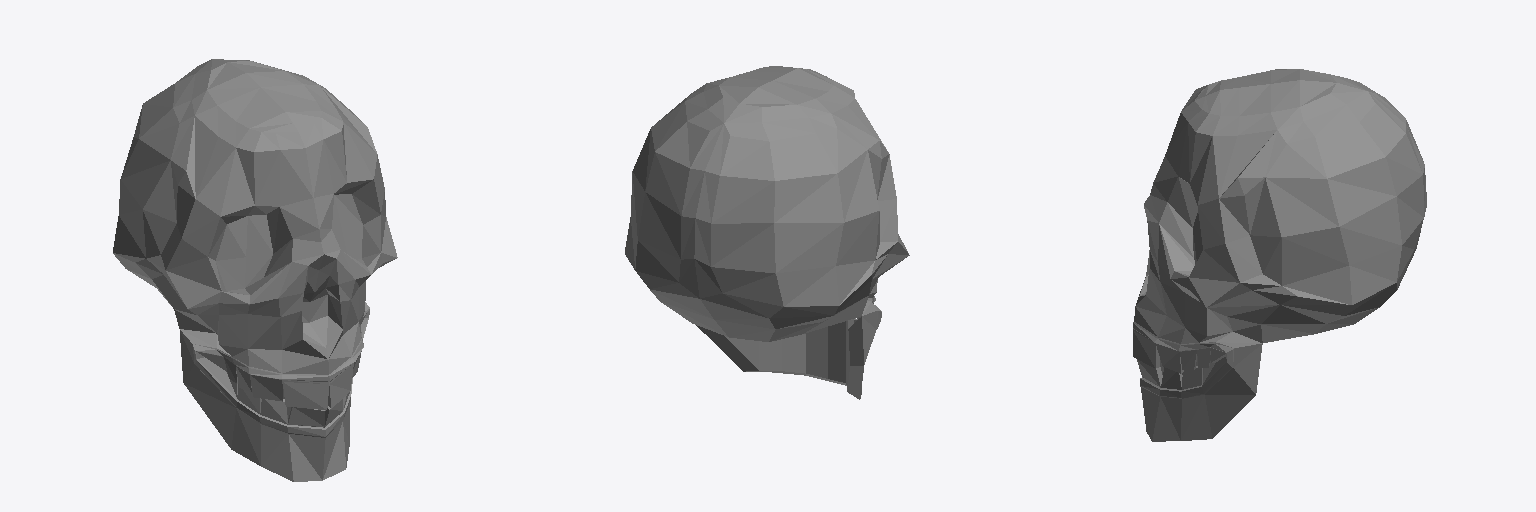
File: skull.obj
The picture shows the model from 3 angles: view 1: azimuth 30°, elevation 25°; view 2: azimuth 150°, elevation 25°; view 3: azimuth 270°, elevation 25°; orthographic projection.
Visible parts, largest first — view 1: JotunSkullNormal; view 2: JotunSkullNormal; view 3: JotunSkullNormal.
Boxes of the visible parts, <box> form: JotunSkullNormal: <box>113,59,397,481</box>; JotunSkullNormal: <box>625,66,909,399</box>; JotunSkullNormal: <box>1133,69,1426,441</box>.
Bounding box in the file's own units: 46.88 × 70.05 × 53.13.